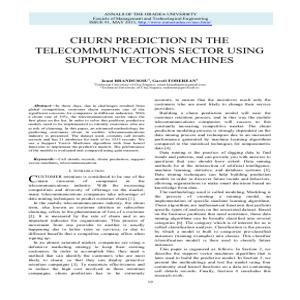text: (21, 100, 148, 280), (152, 95, 275, 280), (31, 30, 267, 72)
